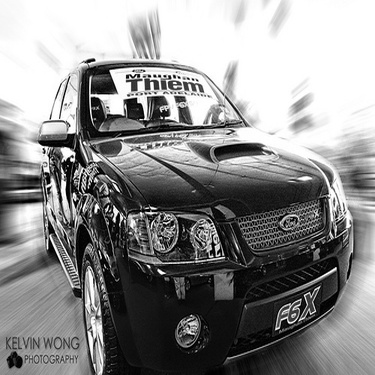car: (21, 35, 365, 356)
